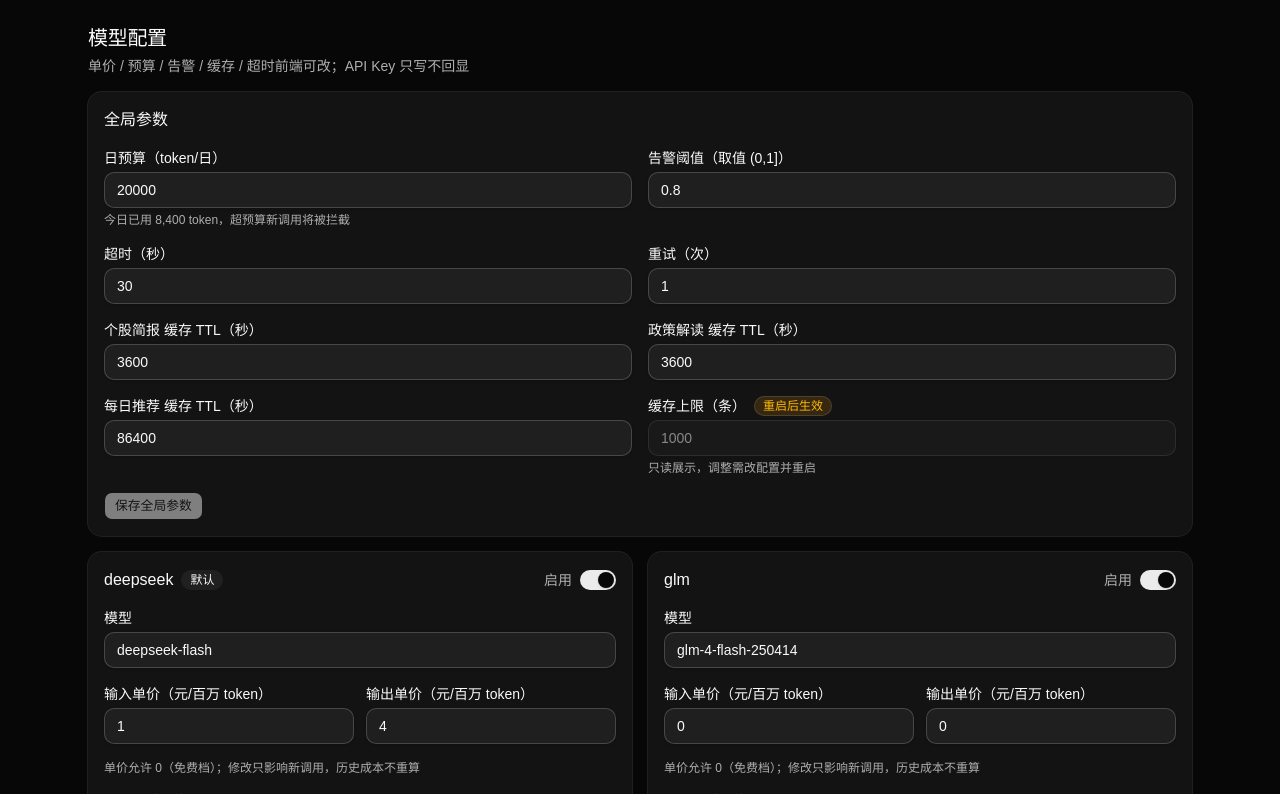
Test: LlmConfig 模型配置页（T39） › 边界校验：告警阈值越界不提交，字段级报错且原值保留
Check: the element with test id "llm-config-global-card" is shown, box left=88, top=92, right=1192, bottom=536
Replace the text in the field with test id "llm-config-ratio-input" with "1.5" at [912, 190], box left=648, top=172, right=1176, bottom=208
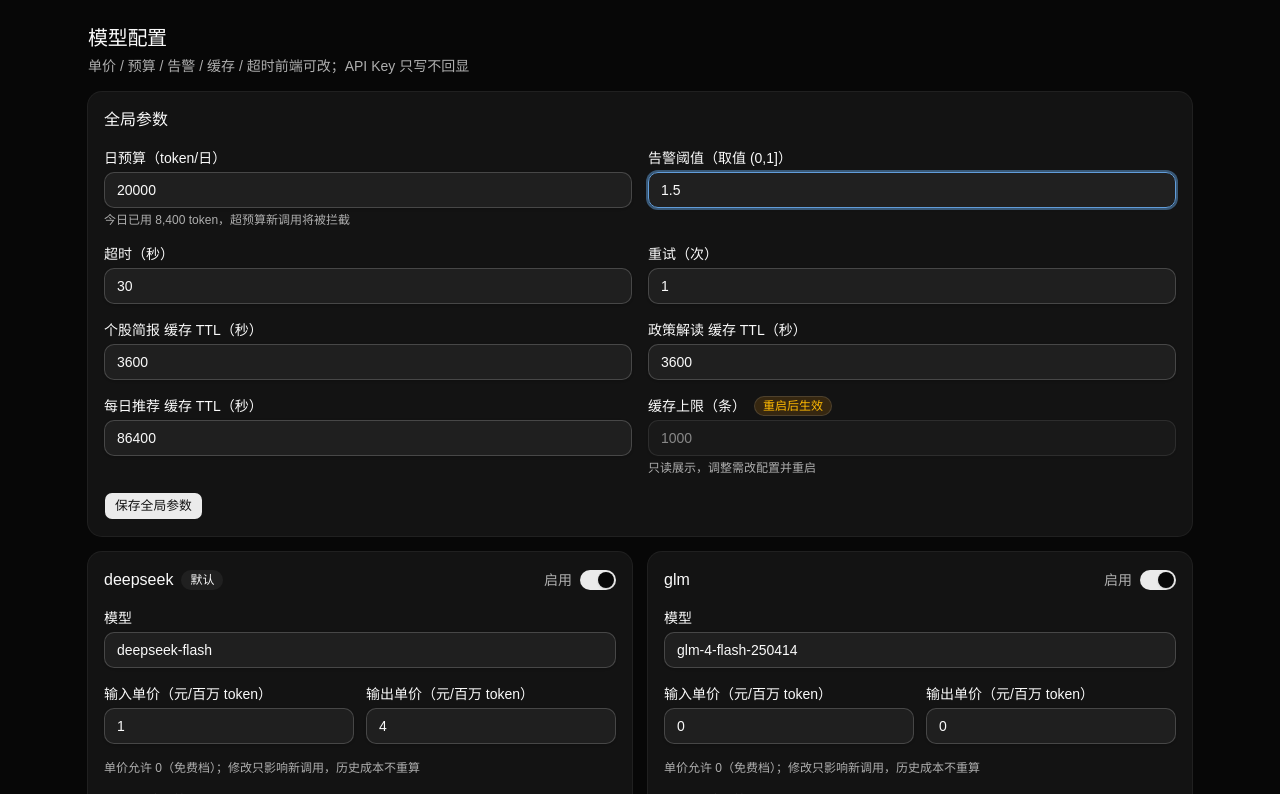
Click the button with test id "llm-config-global-save" at [153, 506], box left=104, top=492, right=203, bottom=520
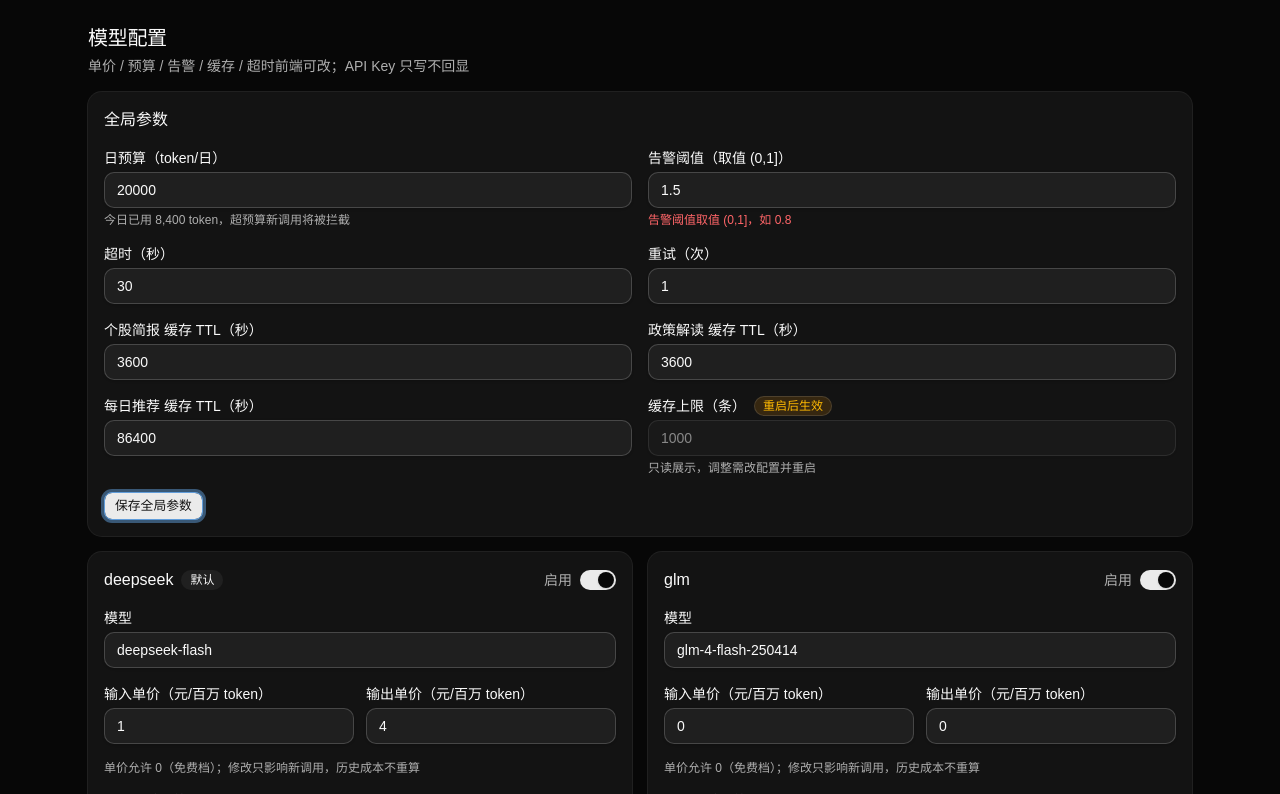
Check: the text "告警阈值取值 (0,1]，如 0.8" is shown, box left=648, top=213, right=791, bottom=227
